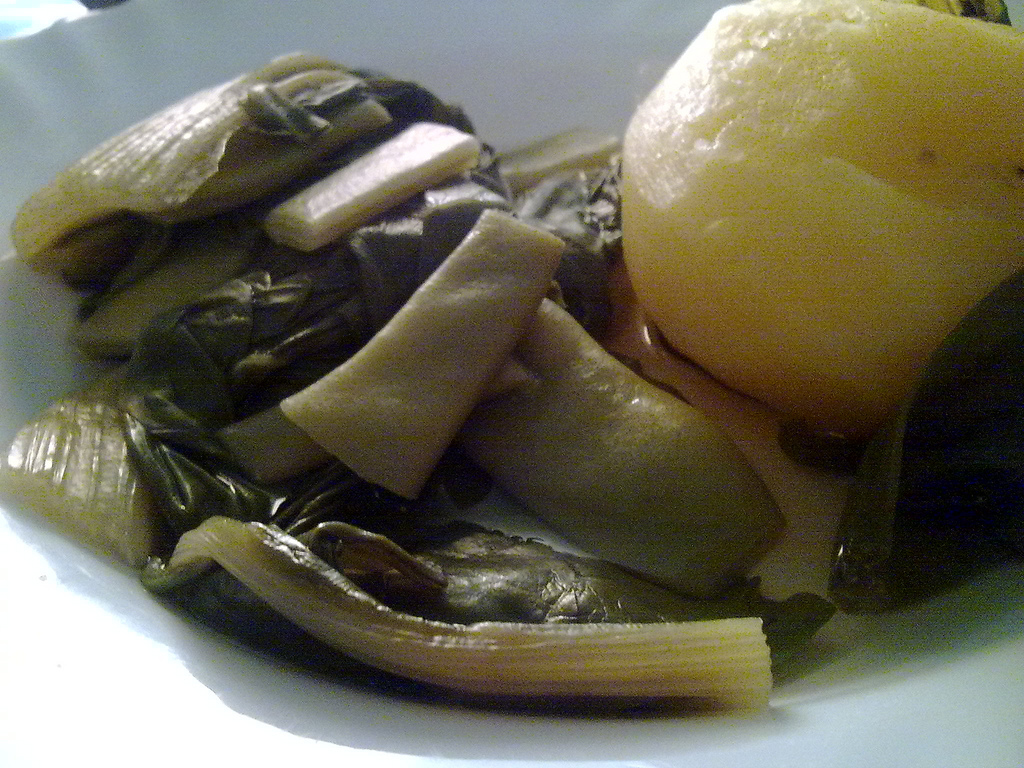boiled potatoes: (604, 1, 1024, 386)
